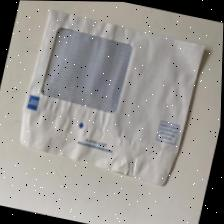paper: (1, 0, 224, 210)
